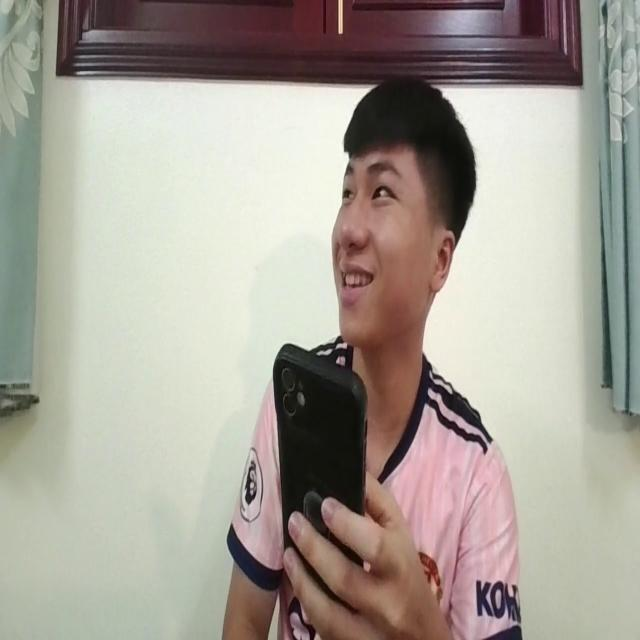phone: (270, 340, 372, 585)
student: (208, 72, 520, 640)
